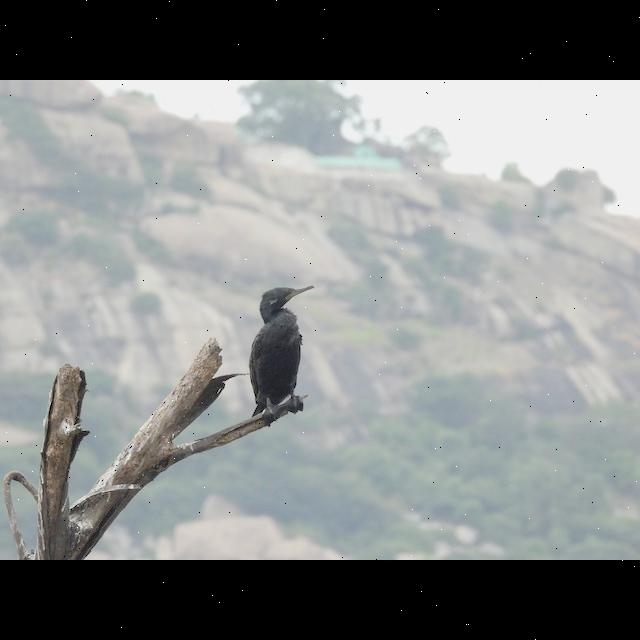cormorant: (239, 284, 315, 418)
